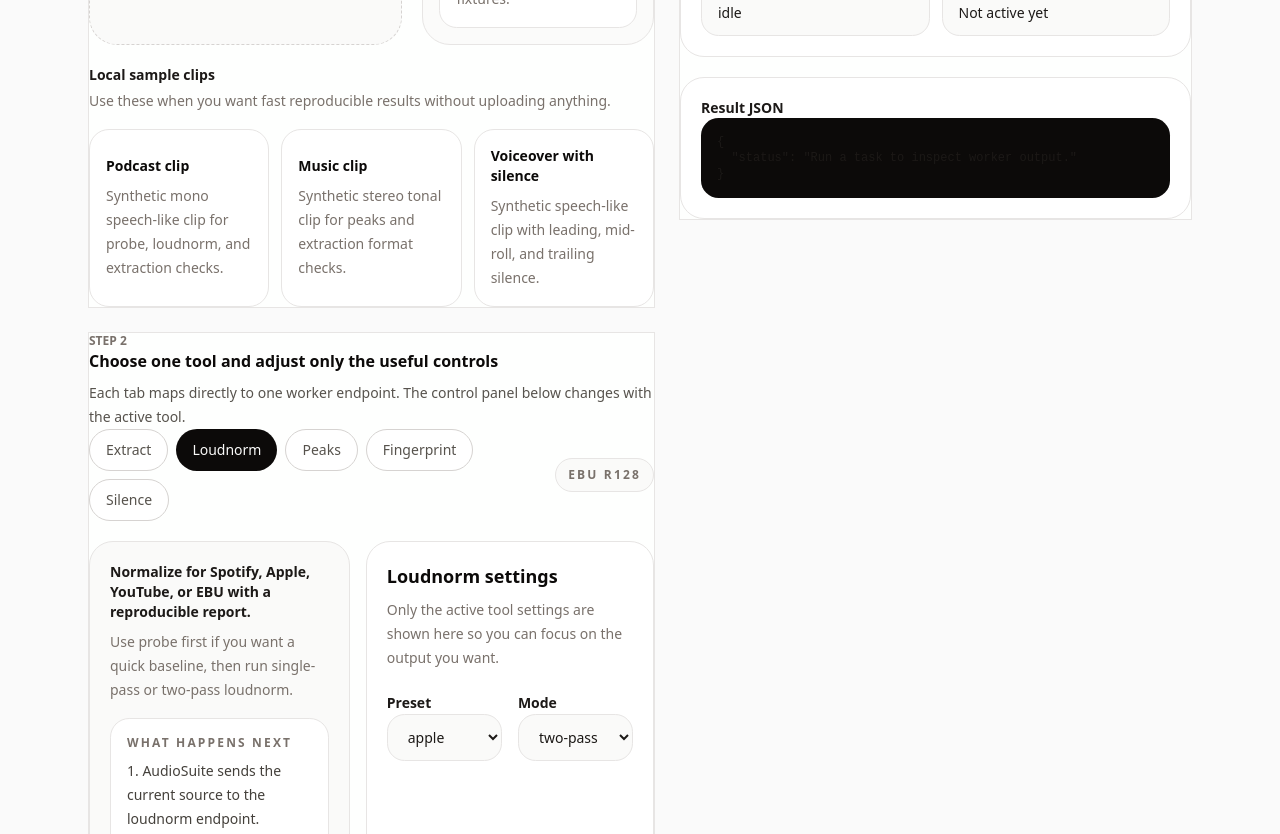
Test case: AudioSuiteApp › submits fingerprint compare fixtures without an explicit source selection
(page scrolled)
Click the button "Fingerprint" at (420, 450), box [366, 429, 473, 471]
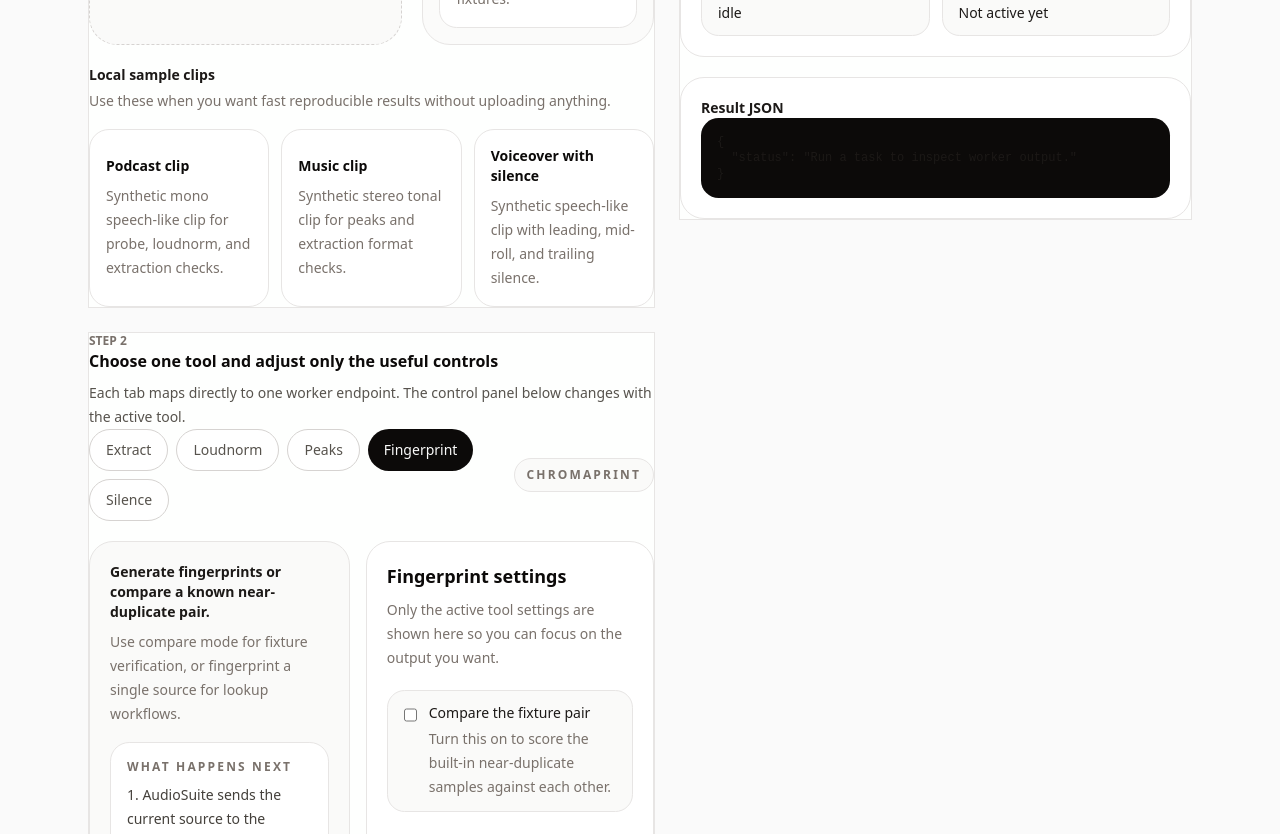
Click the checkbox labelled "Compare the fixture pair" at (410, 715), box [404, 707, 417, 723]
(page scrolled)
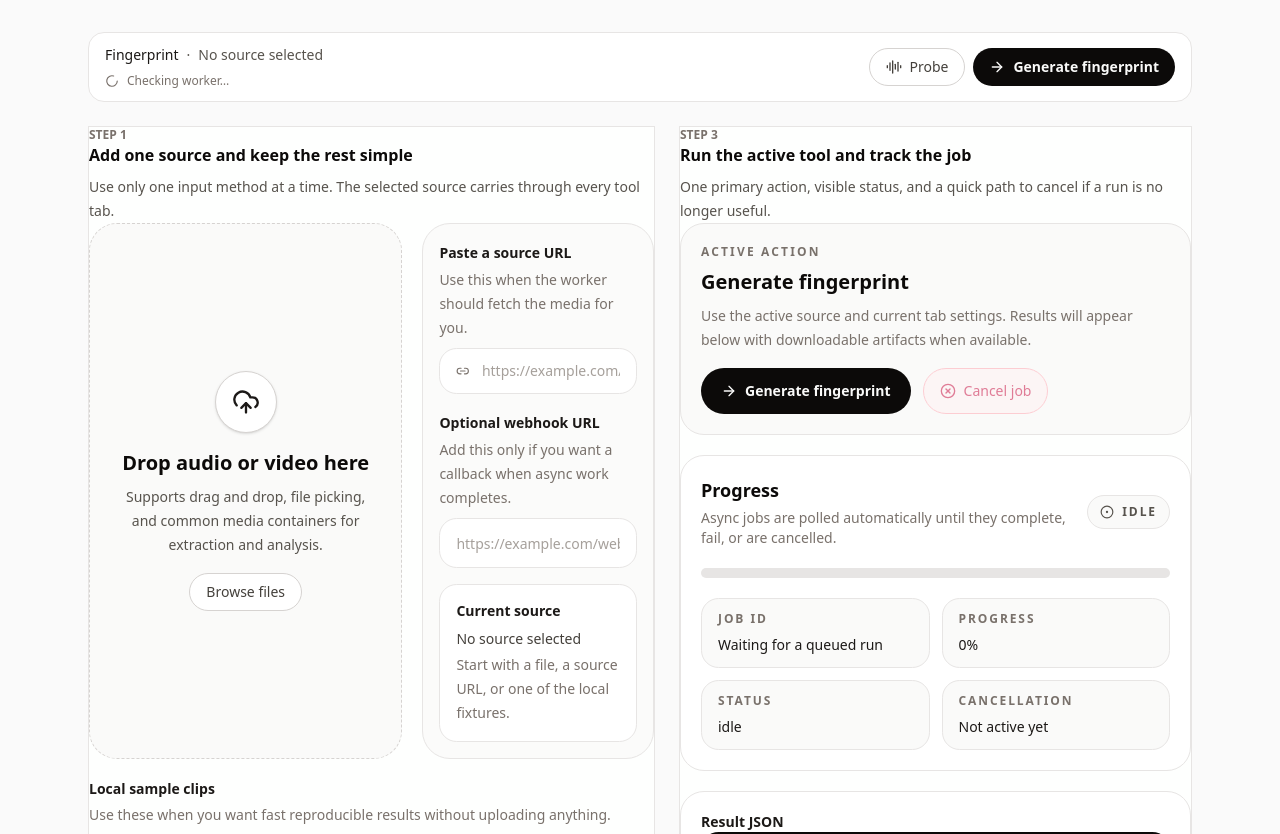
Click the button "Generate fingerprint" in the row of "Checking worker…" at (1074, 67), box [974, 48, 1175, 86]
(page scrolled)
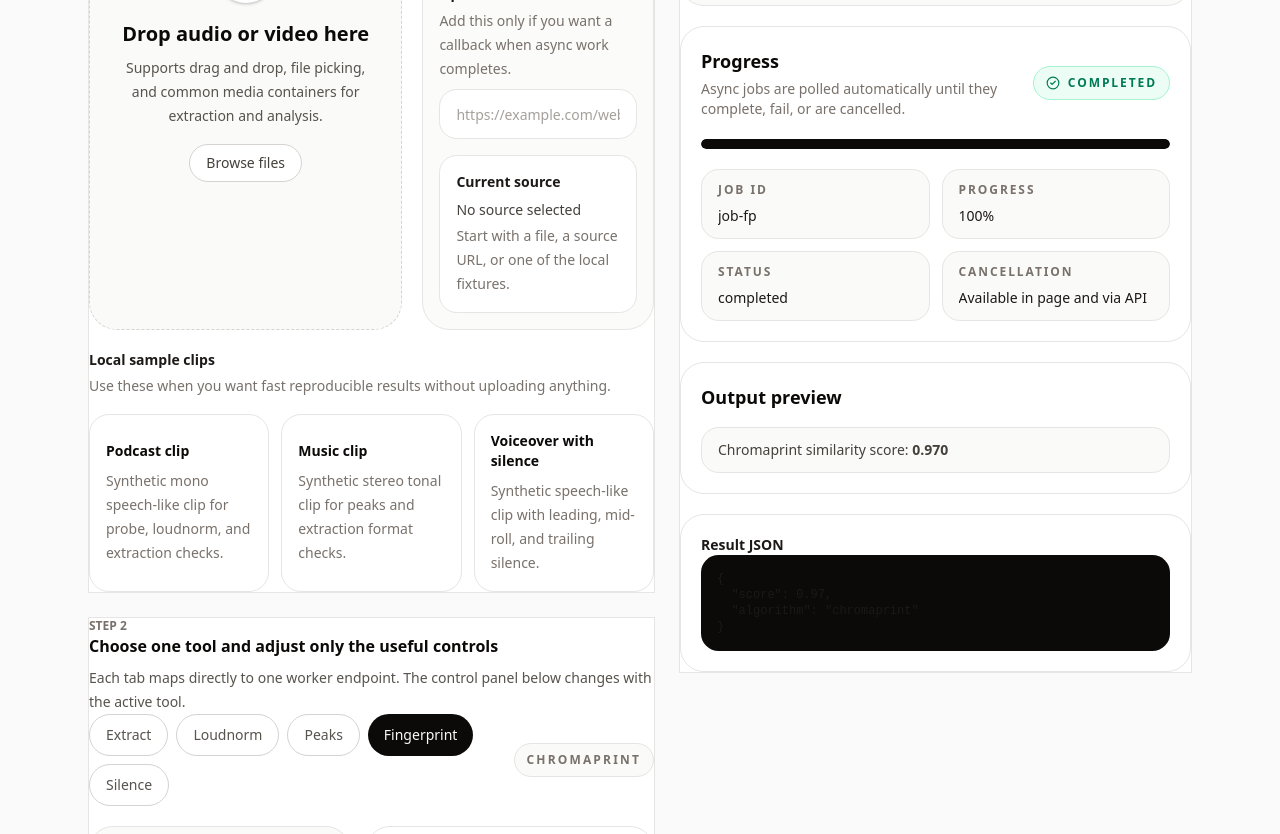
Expected: the text "Chromaprint similarity score: 0.970" is shown, [701, 427, 1170, 473]
